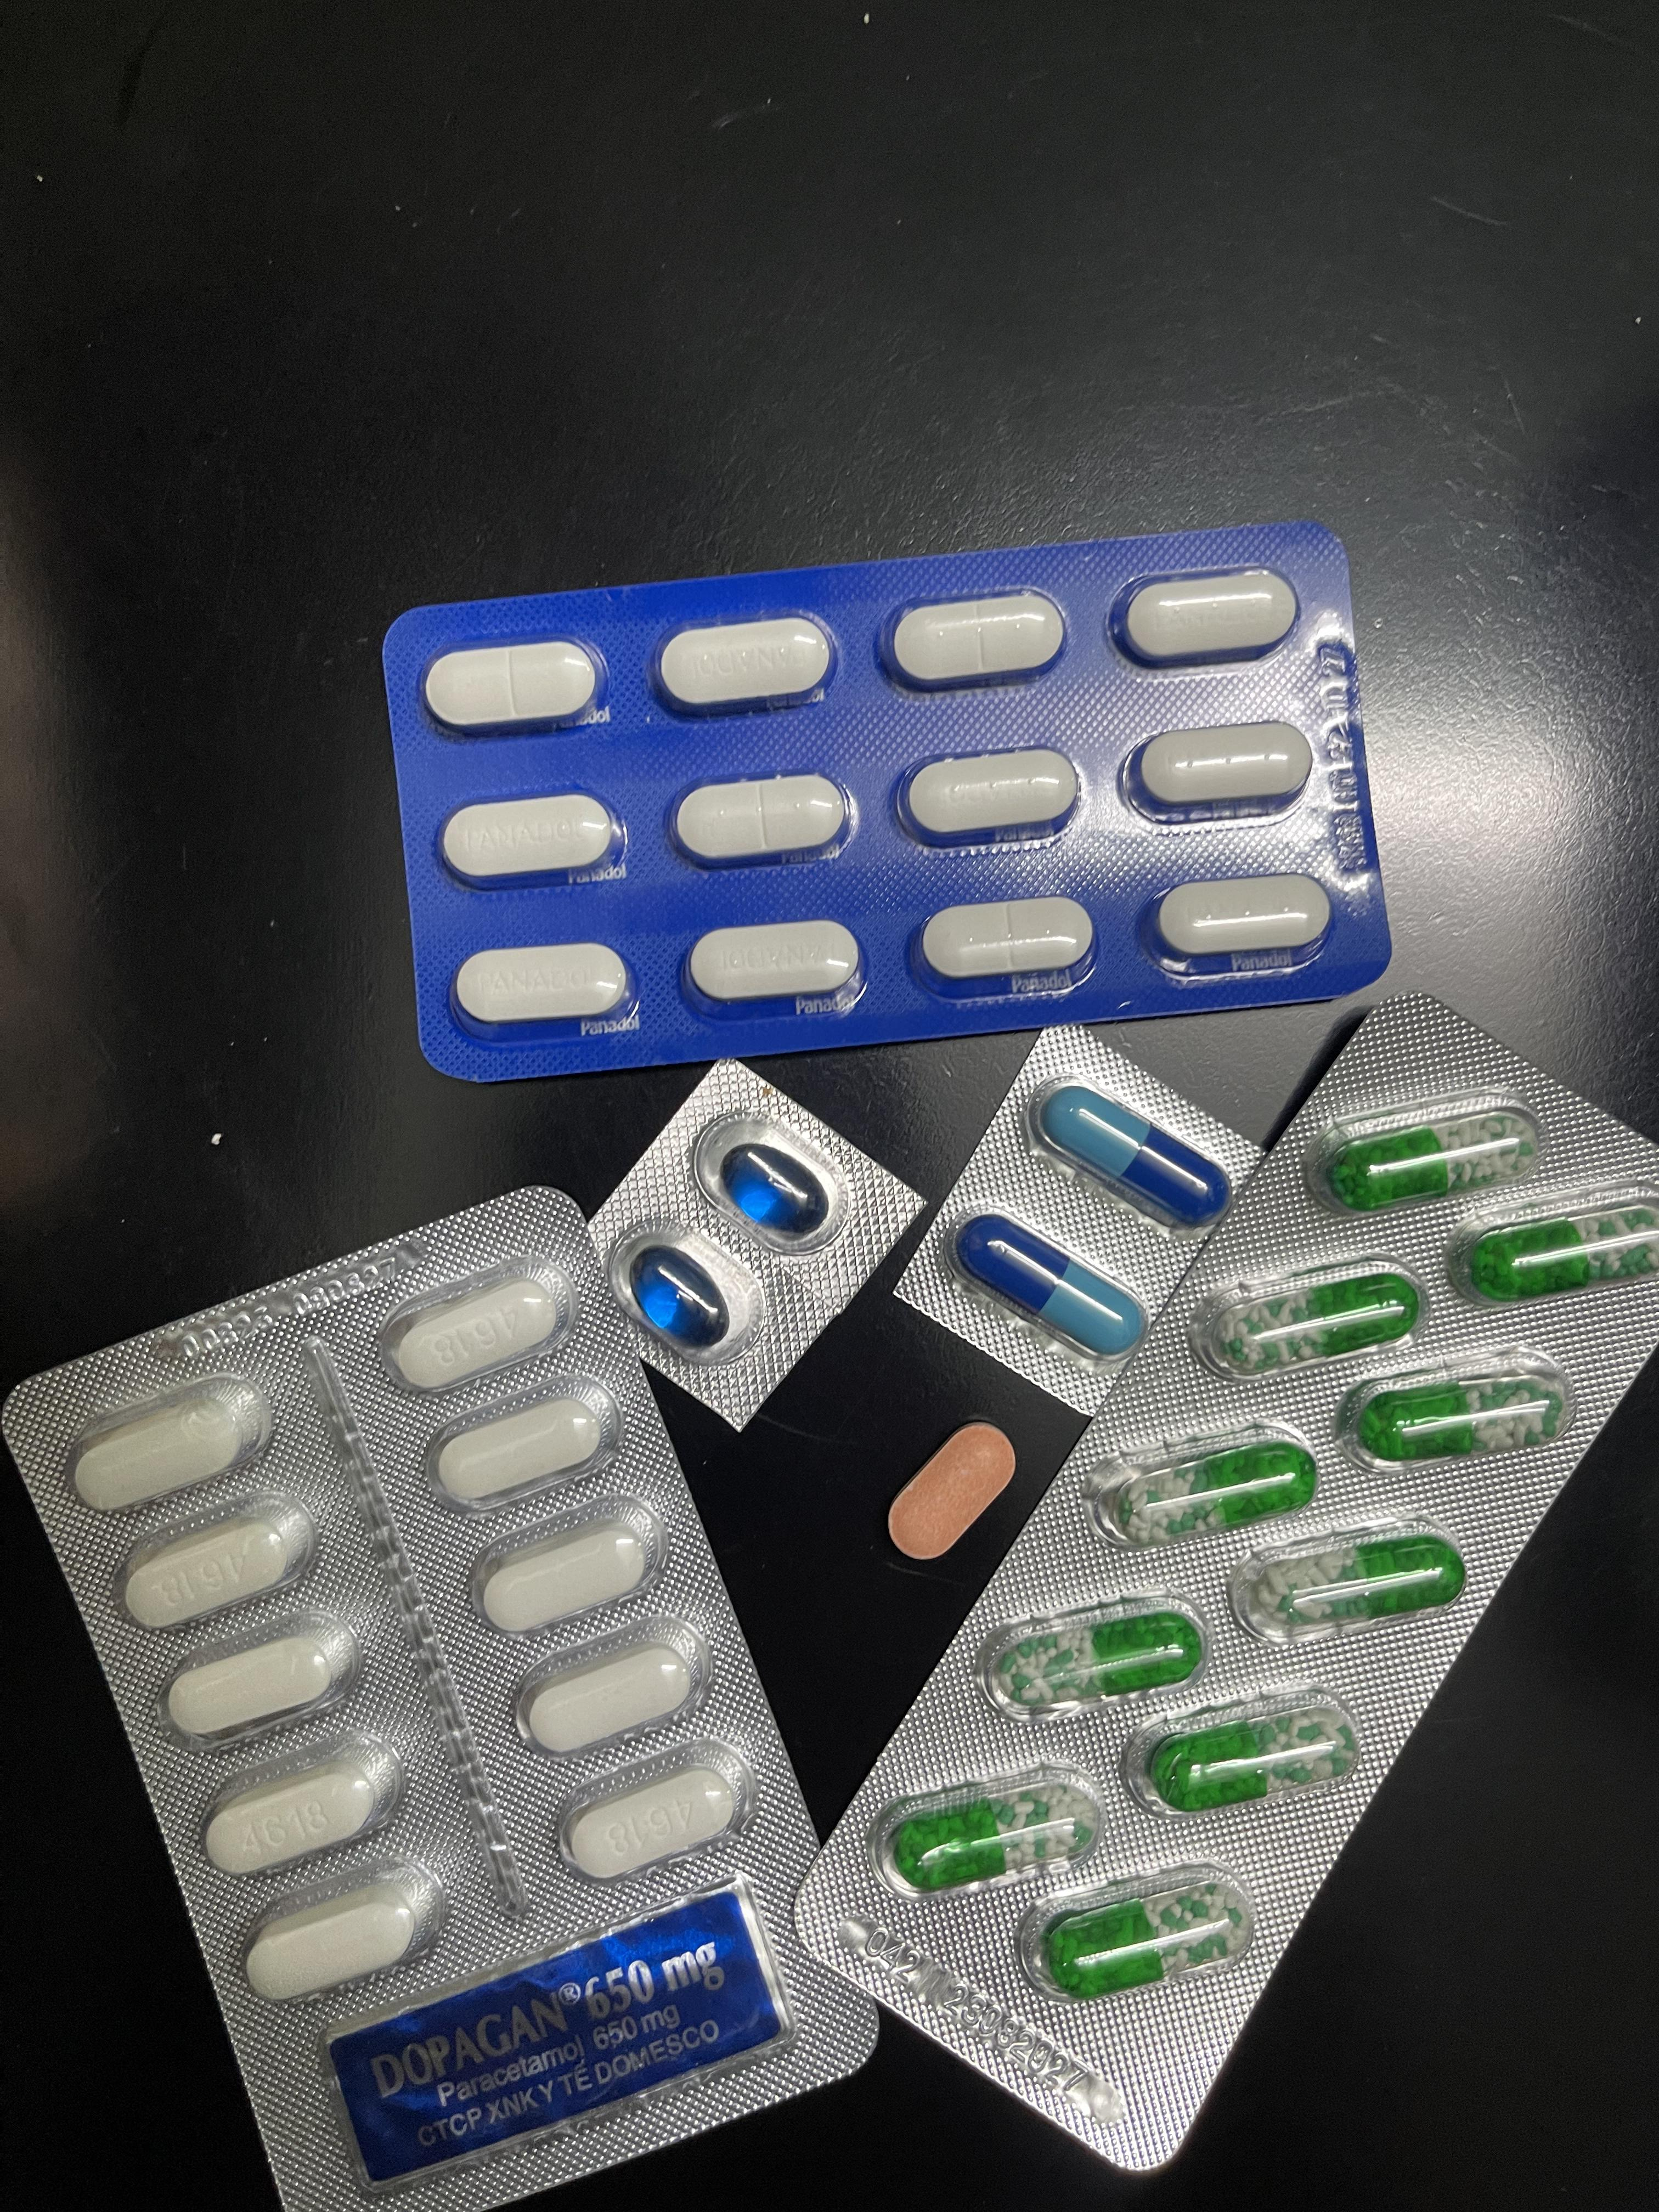Lincomyxin_500mg: (723, 1143, 831, 1237), (631, 1249, 730, 1348)
Loratadine_10mg: (889, 1421, 1016, 1564)
Paracetamol_350mg: (1110, 566, 1302, 672), (1121, 723, 1312, 827), (882, 590, 1068, 695), (896, 747, 1079, 850), (653, 617, 842, 716), (439, 791, 624, 890), (671, 773, 857, 871), (423, 639, 599, 737), (915, 899, 1096, 993), (1152, 874, 1335, 965), (681, 920, 866, 1008), (453, 942, 631, 1031)
Paracetamol_500mg: (200, 1721, 408, 1874), (157, 1599, 366, 1750), (240, 1858, 446, 2003), (556, 1742, 760, 1885), (68, 1371, 274, 1512), (117, 1484, 317, 1629), (511, 1615, 709, 1756), (423, 1376, 620, 1515), (472, 1493, 669, 1630), (380, 1258, 572, 1386)
Paracetamol_650mg: (1147, 1700, 1359, 1811), (1255, 1538, 1467, 1642), (1213, 1273, 1419, 1378), (890, 1784, 1096, 1888), (1051, 1885, 1243, 1994), (1319, 1120, 1534, 1212), (1110, 1444, 1312, 1541), (1459, 1205, 1657, 1299), (1358, 1376, 1560, 1463), (1007, 1611, 1199, 1698)
pill: (962, 1224, 1141, 1360), (1046, 1092, 1222, 1228)
